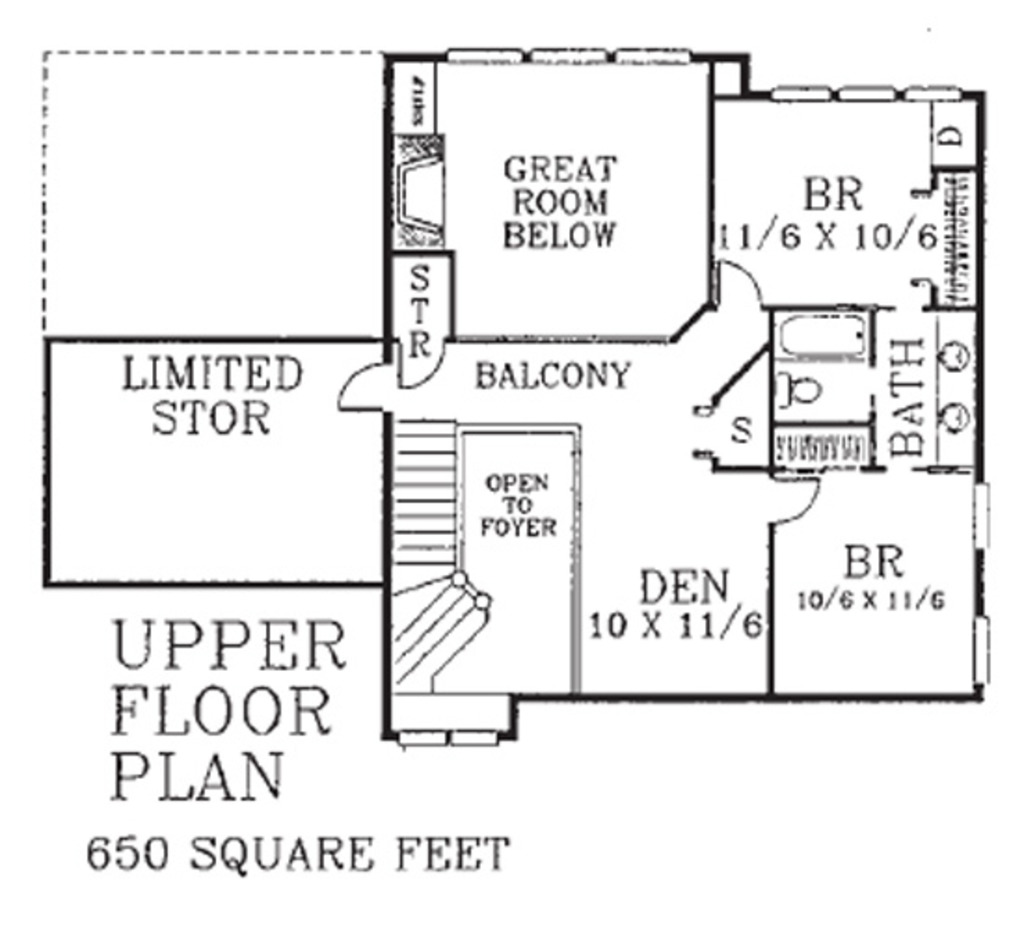door: (707, 248, 768, 316), (768, 476, 830, 528), (334, 365, 384, 415), (391, 342, 446, 387)
large_sink: (765, 367, 827, 413)
small_sink: (934, 323, 975, 451)
stairs: (390, 416, 503, 699)
tub: (775, 319, 866, 360)
window: (434, 45, 698, 68), (774, 83, 968, 106), (963, 606, 998, 697), (387, 723, 503, 750), (966, 477, 992, 557)
